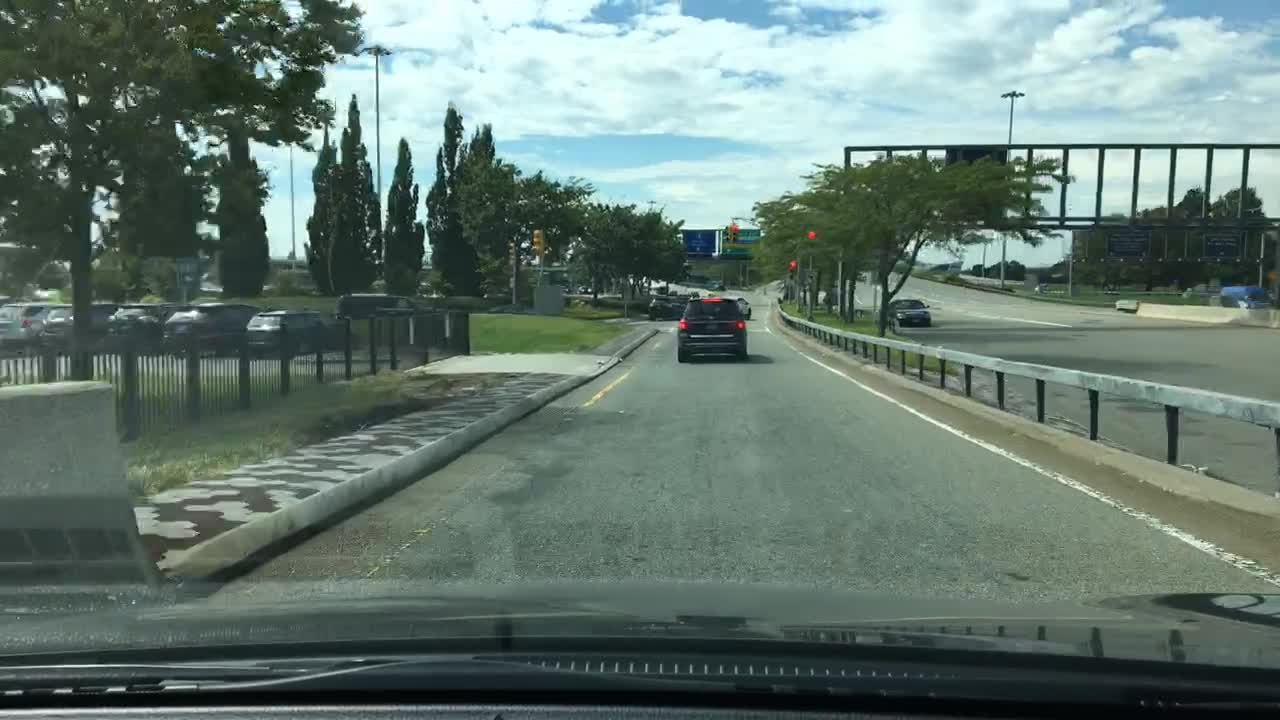car: (158, 305, 256, 359), (675, 293, 746, 364), (243, 310, 330, 354), (37, 299, 106, 349), (106, 300, 168, 354), (0, 297, 44, 351), (332, 292, 415, 320), (884, 299, 930, 327), (668, 292, 695, 319), (646, 292, 671, 320), (732, 297, 752, 317), (575, 282, 594, 295), (708, 280, 725, 293)
traffic light: (530, 226, 545, 256), (806, 226, 816, 246), (786, 260, 796, 280), (729, 223, 739, 241), (506, 245, 515, 265), (720, 226, 729, 245)
traffic sign: (941, 143, 1005, 221), (1201, 228, 1238, 261), (1105, 226, 1147, 255), (680, 224, 715, 255), (724, 226, 759, 255)
truck: (1218, 283, 1262, 309)
